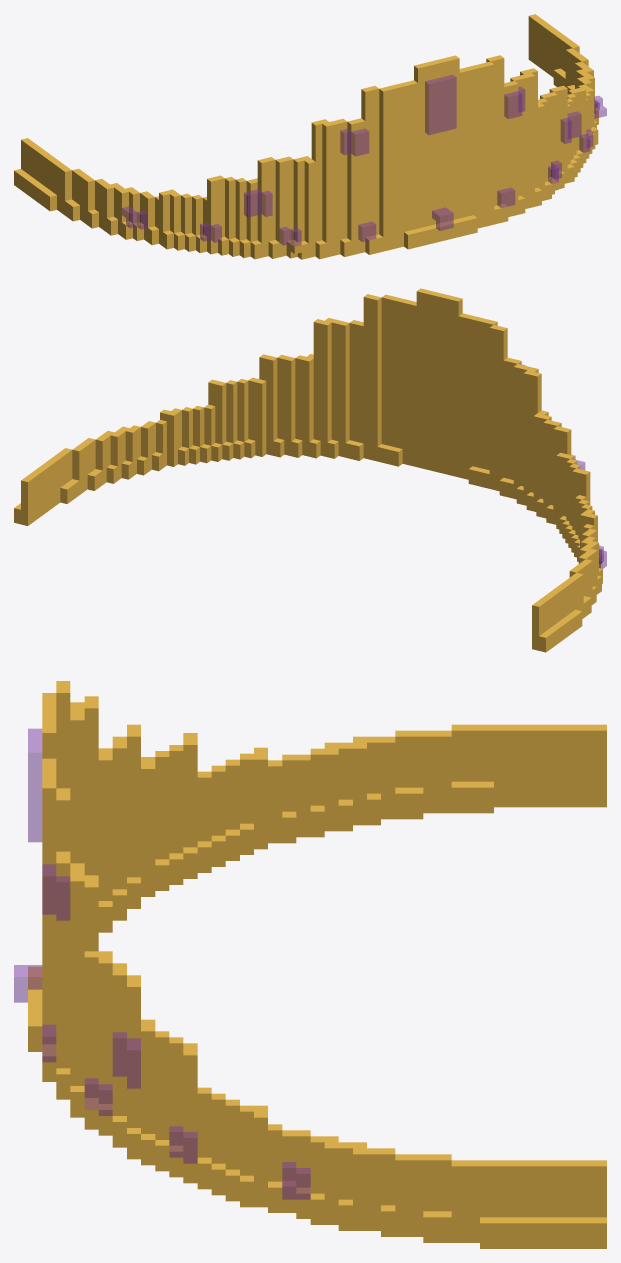
File: gem_tiara.glb
3 renders of one model, top to bottom at view 1: azimuth 30°, elevation 25°; view 2: azimuth 150°, elevation 25°; view 3: azimuth 270°, elevation 25°, orthographic. The views are drawn at different scales.
Parts seen in each view (by area): view 1: gem_tiara:compound; view 2: gem_tiara:compound; view 3: gem_tiara:compound.
Part boxes in pixels (x1,y1,x2,y2): gem_tiara:compound: (14,14,606,259); gem_tiara:compound: (14,288,606,652); gem_tiara:compound: (14,681,606,1248).
Size of the model in its own units: 0.152 by 0.048 by 0.084.
